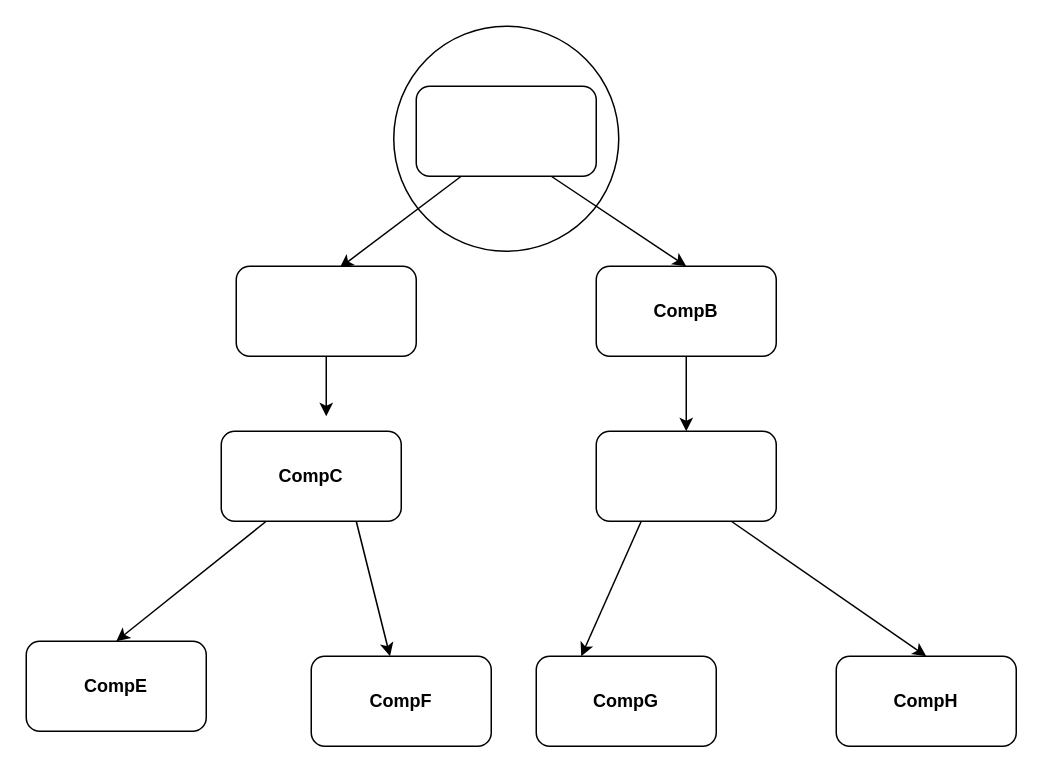
Image size: 1043x773. Some labels were removed from this diagram. Here are the shapes that lost their labels. From the top down, the centre of each, then its label:
the point at 505,130: App
the point at 325,310: CompA
the point at 685,475: CompD
